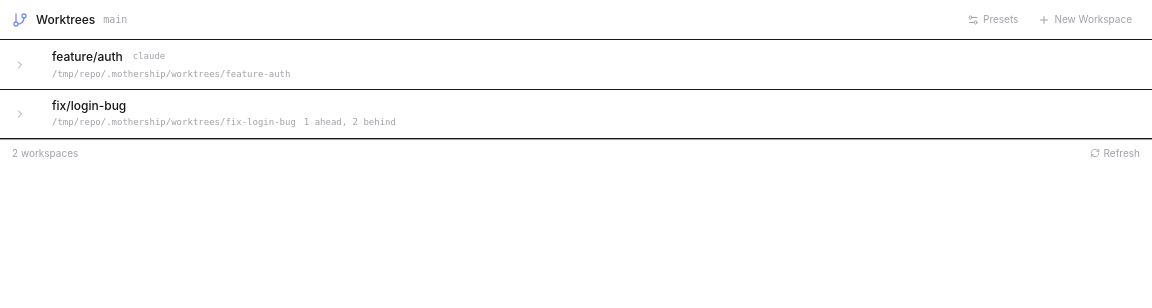
Test: WorktreeManager › create panel › shows the create form when New Workspace is clicked
Click the button "New Workspace": (1085,20) [1030,8,1140,31]
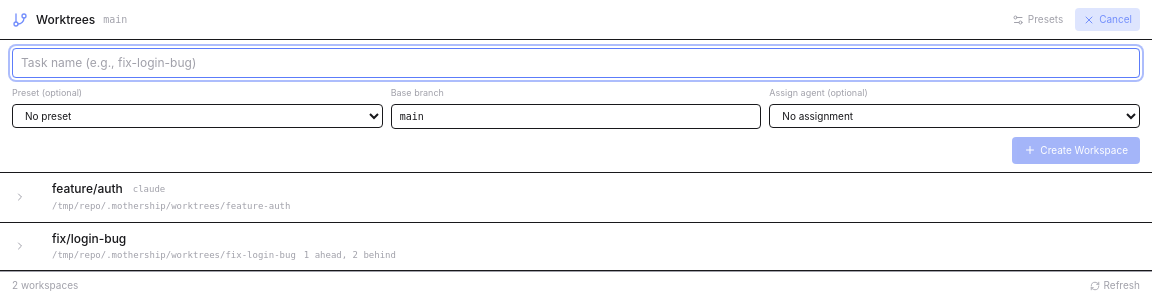
Expected: the field with placeholder "Task name (e.g., fix-login-bug)" is shown, [12,48,1140,78]
